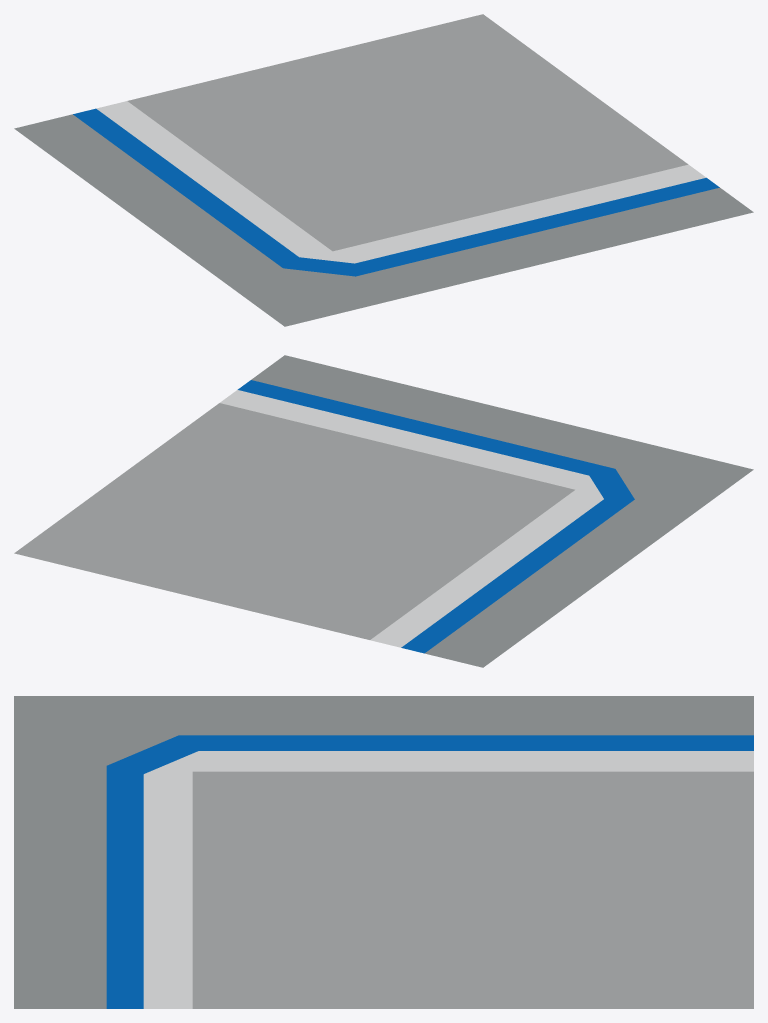
Rendered from Ceiling_type_A_023.fbx.
3 renders of one model, top to bottom at view 1: azimuth 30°, elevation 25°; view 2: azimuth 150°, elevation 25°; view 3: azimuth 270°, elevation 25°, orthographic. The views are drawn at different scales.
Parts seen in each view (by area): view 1: Ceiling_type_A_023; view 2: Ceiling_type_A_023; view 3: Ceiling_type_A_023.
Boxes of the visible parts, x1=… form: Ceiling_type_A_023: x1=14, y1=14, x2=753, y2=326; Ceiling_type_A_023: x1=14, y1=355, x2=753, y2=667; Ceiling_type_A_023: x1=14, y1=696, x2=753, y2=1008.
Size of the model in its own units: 400 by 400 by 6.18.
